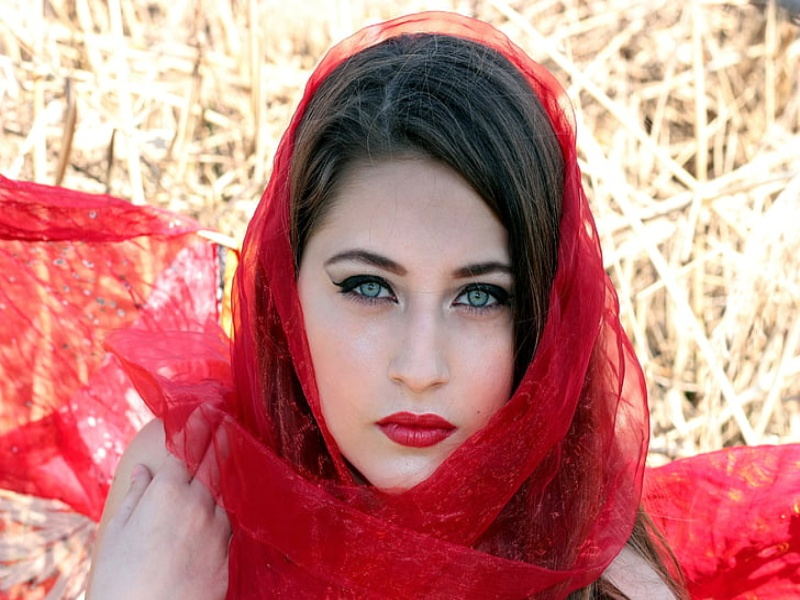face: (319, 195, 517, 459)
